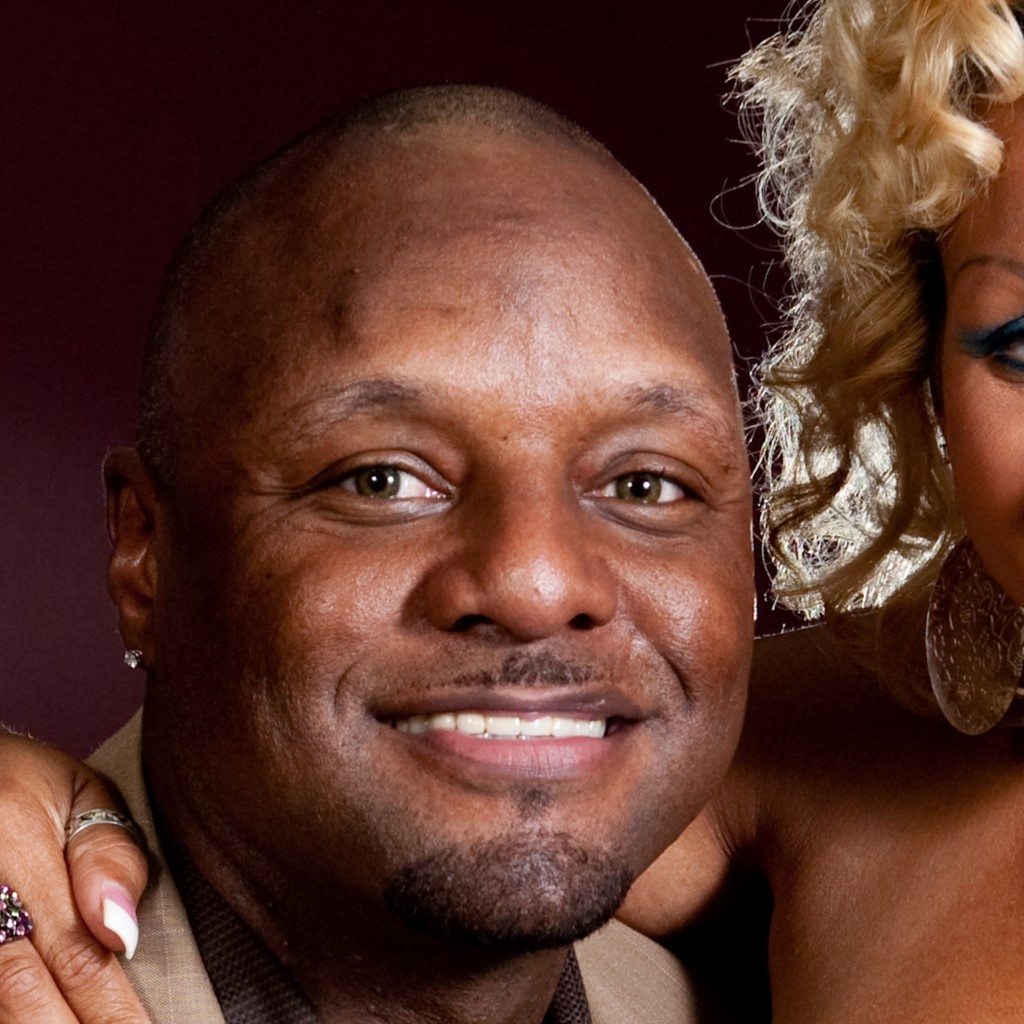sin_mascara: (155, 152, 776, 914)
